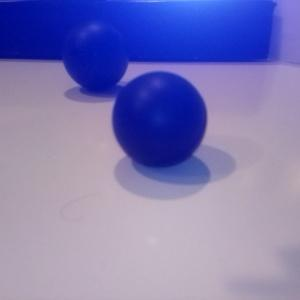dead_ball: (110, 70, 208, 166), (61, 20, 131, 91)
